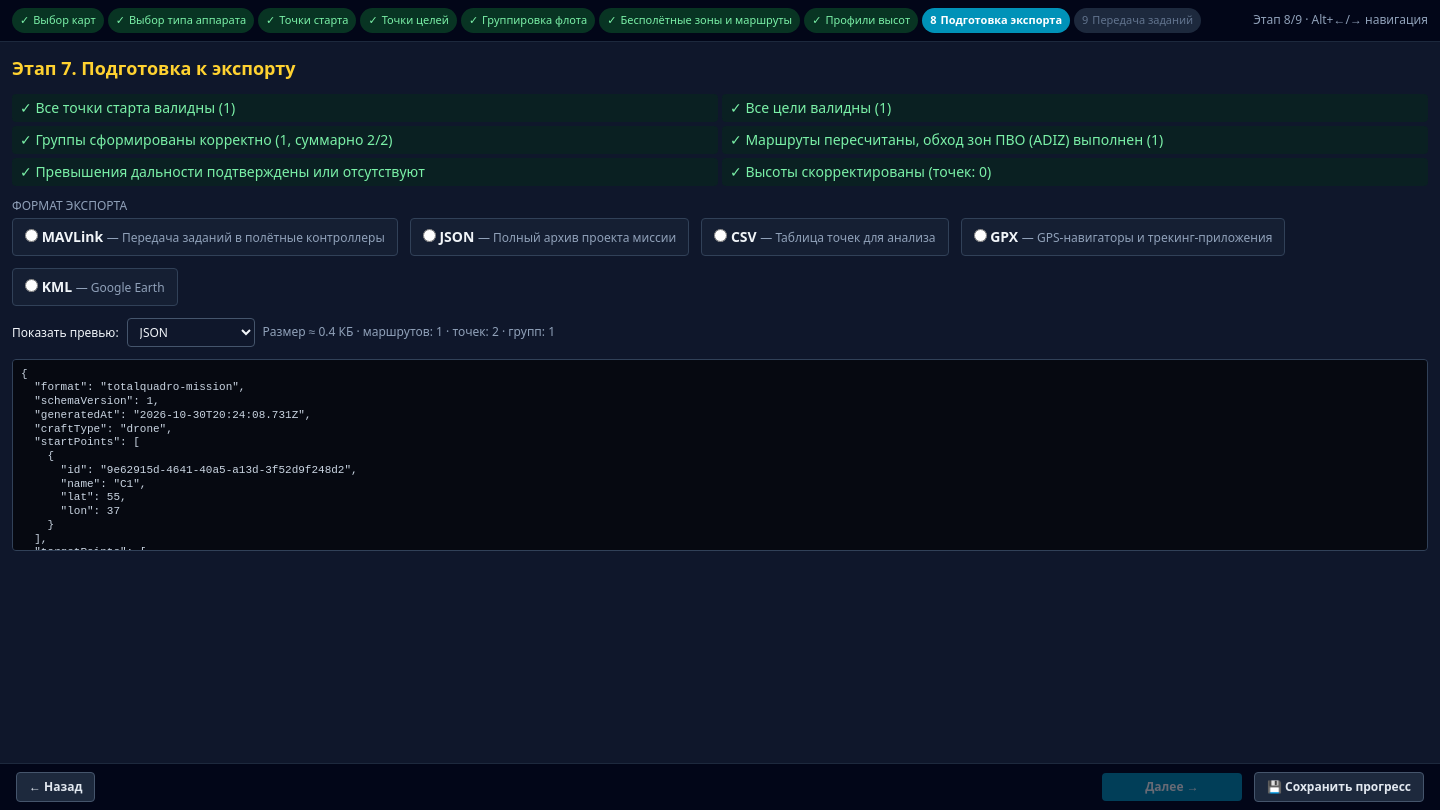
Test: Этапы 8–9 UI › чек-лист и форматы экспорта рендерятся; выбор формата открывает переход
Expected: the list with test id "final-checklist" is shown, [12,94,1428,186]
Expected: the text "MAVLink — Передача заданий в полётные контроллеры" is shown, [12,218,398,256]
Click the label with test id "format-json" at x=550, y=236, box [410,218,689,256]
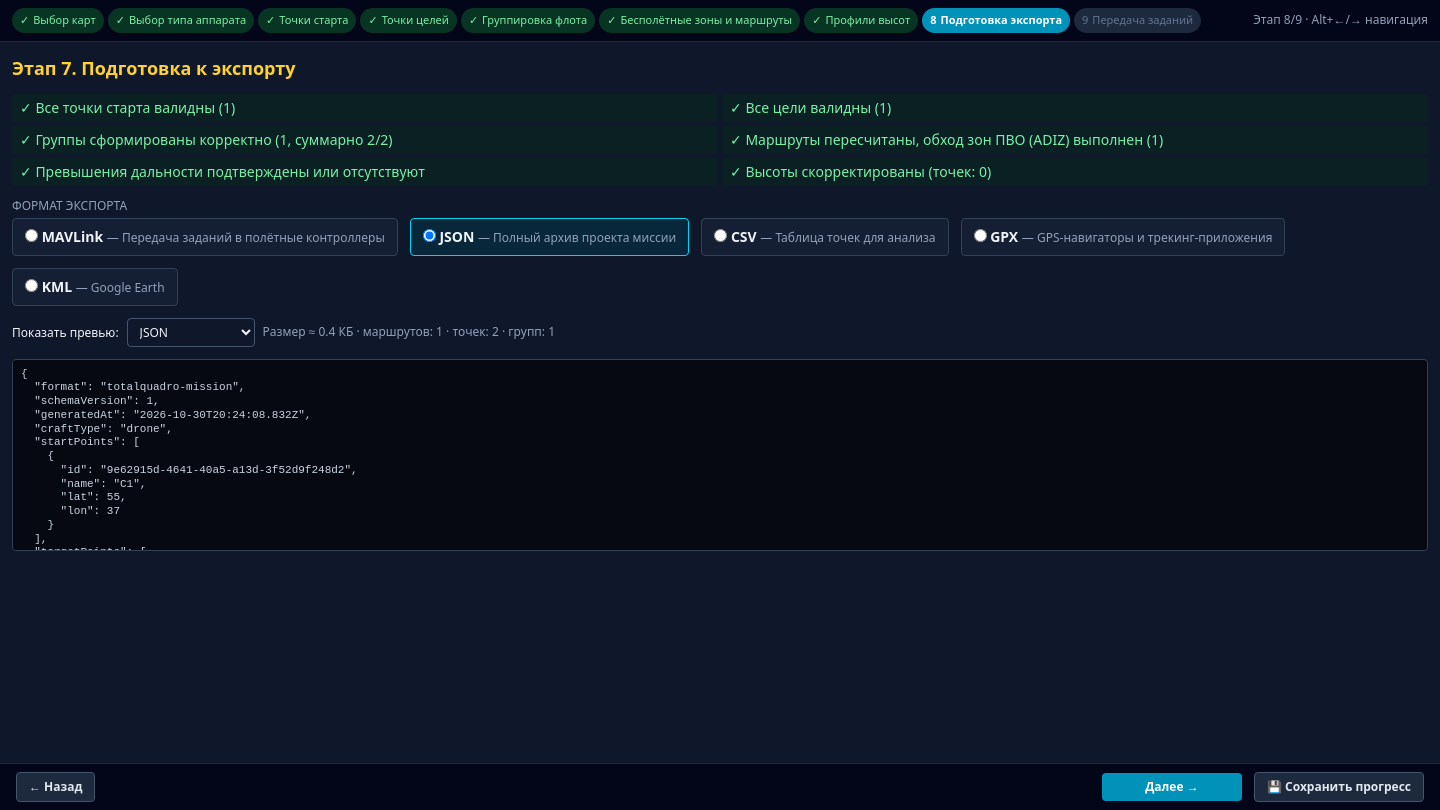
Expected: the button "Далее →" is enabled, [1102,773,1242,801]
